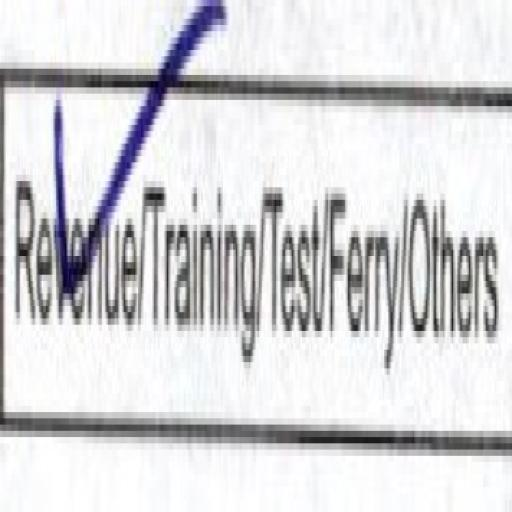check: (0, 0, 142, 462)
